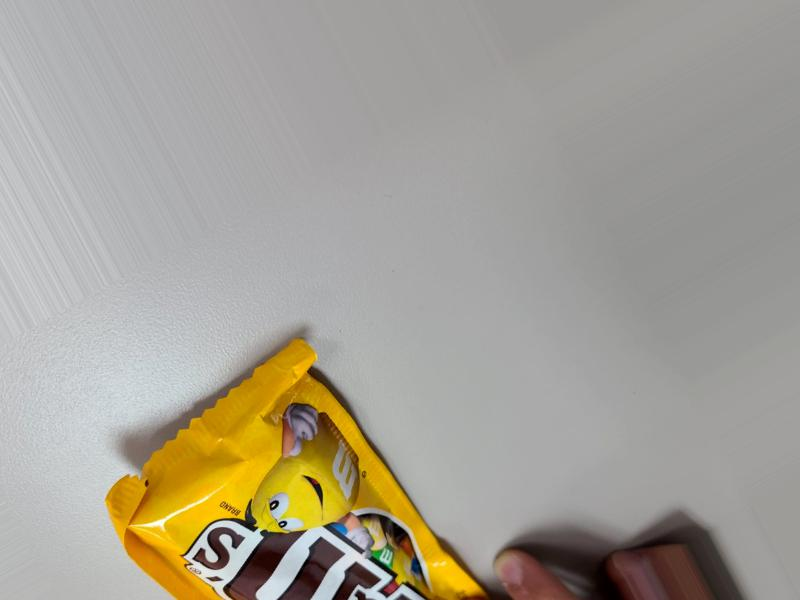m&m: (60, 357, 538, 591)
